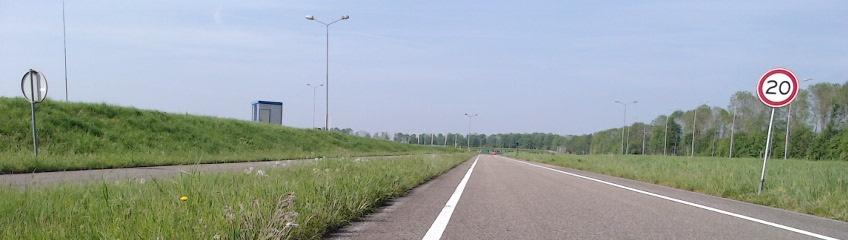Speed-limit-20km-h-: (757, 68, 799, 107)
